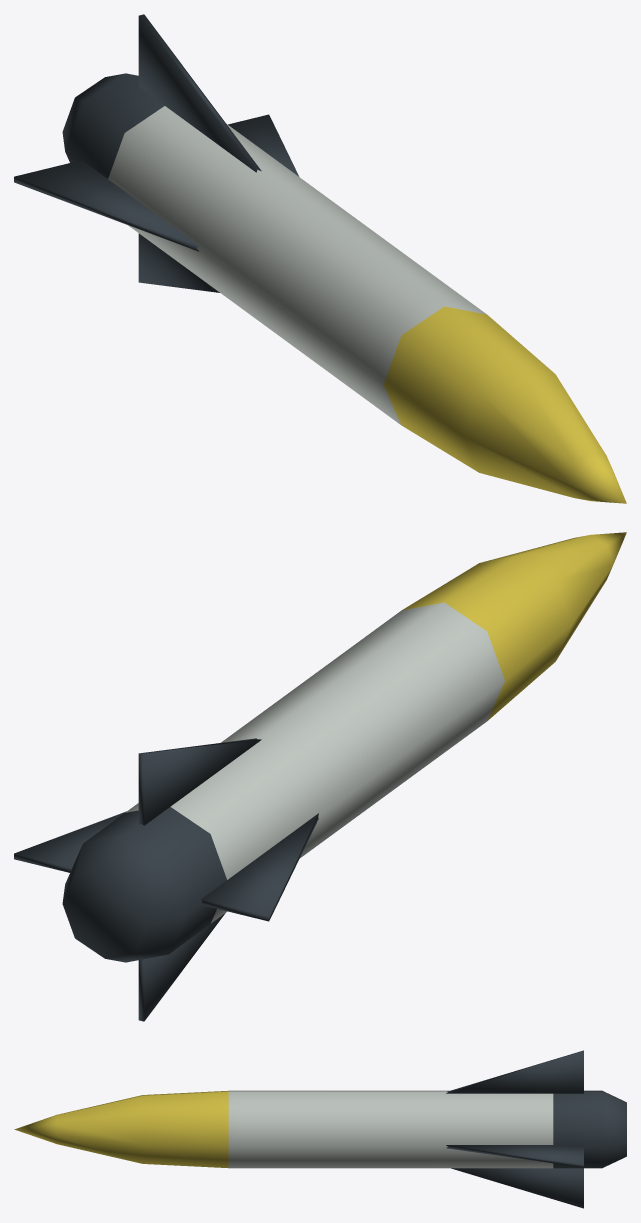
Rendered from ammo_missile_heavy_projectile_game.glb.
The picture shows the model from 3 angles, top to bottom: view 1: azimuth 30°, elevation 25°; view 2: azimuth 150°, elevation 25°; view 3: azimuth 270°, elevation 25°; orthographic projection. The views are drawn at different scales.
Parts seen in each view (by area): view 1: AMMO_MESH.062; view 2: AMMO_MESH.062; view 3: AMMO_MESH.062.
Boxes of the visible parts, left/top/right/bottom form: AMMO_MESH.062: left=14, top=14, right=626, bottom=503; AMMO_MESH.062: left=14, top=532, right=626, bottom=1021; AMMO_MESH.062: left=14, top=1050, right=626, bottom=1208.
Bounding box in the file's own units: 1.81 × 1.81 × 6.4.
